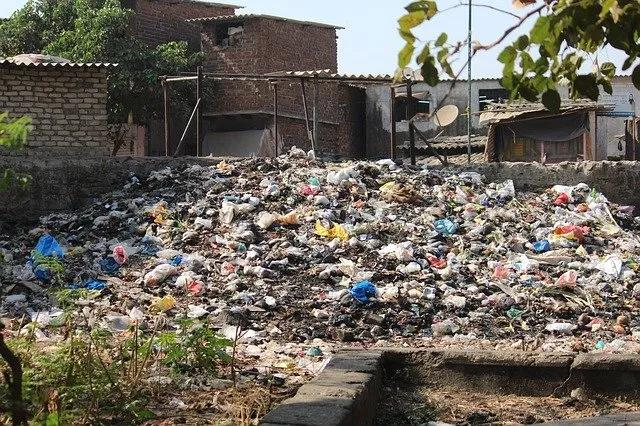garbage: (0, 143, 640, 358)
